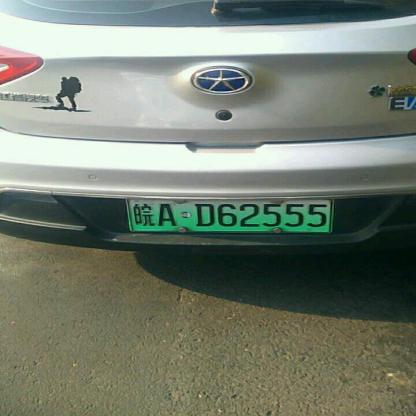lp: (127, 199, 331, 231)
